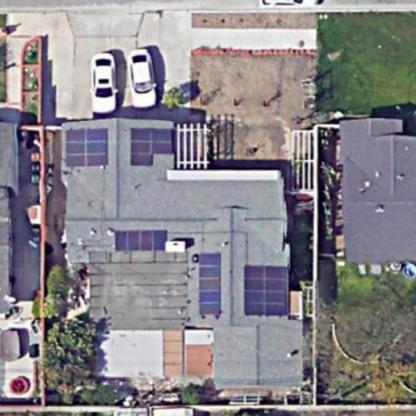car: (85, 46, 122, 118), (124, 44, 160, 114)
solar_panel: (237, 254, 290, 322), (124, 119, 180, 177), (189, 239, 227, 323), (59, 126, 116, 175), (101, 224, 175, 259)
